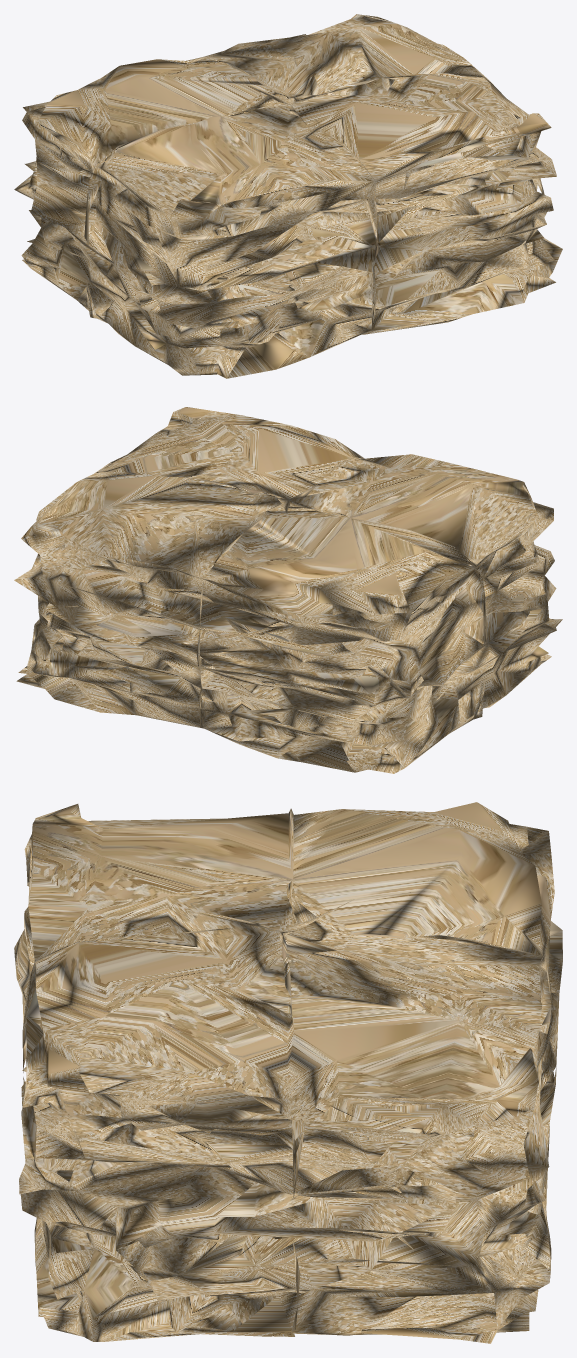
File: paper_stack.9f2a9d0152.glb
3 renders of one model, top to bottom at view 1: azimuth 30°, elevation 25°; view 2: azimuth 150°, elevation 25°; view 3: azimuth 270°, elevation 25°, orthographic. The views are drawn at different scales.
Parts seen in each view (by area): view 1: paper_stack; view 2: paper_stack; view 3: paper_stack.
Part boxes in pixels (x1,y1,x2,y2): paper_stack: (14,14,562,378); paper_stack: (14,407,562,773); paper_stack: (14,802,562,1343).
Bounding box in the file's own units: 0.4 × 0.1847 × 0.2978.
1 material, 1 textured.
